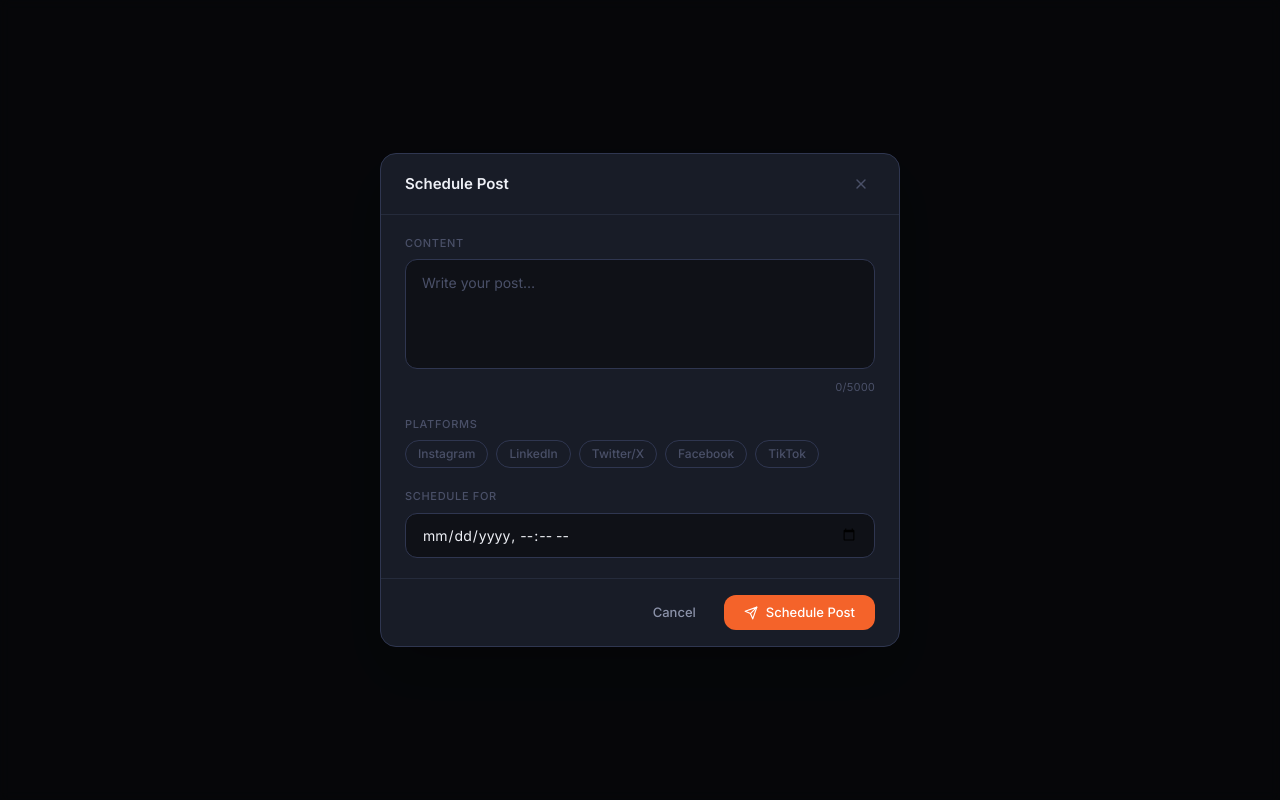
Test case: ComposeModal › shows API error message when submit fails
Type "Test post" into the text box labelled "Content" at (640, 314), box [405,259,875,369]
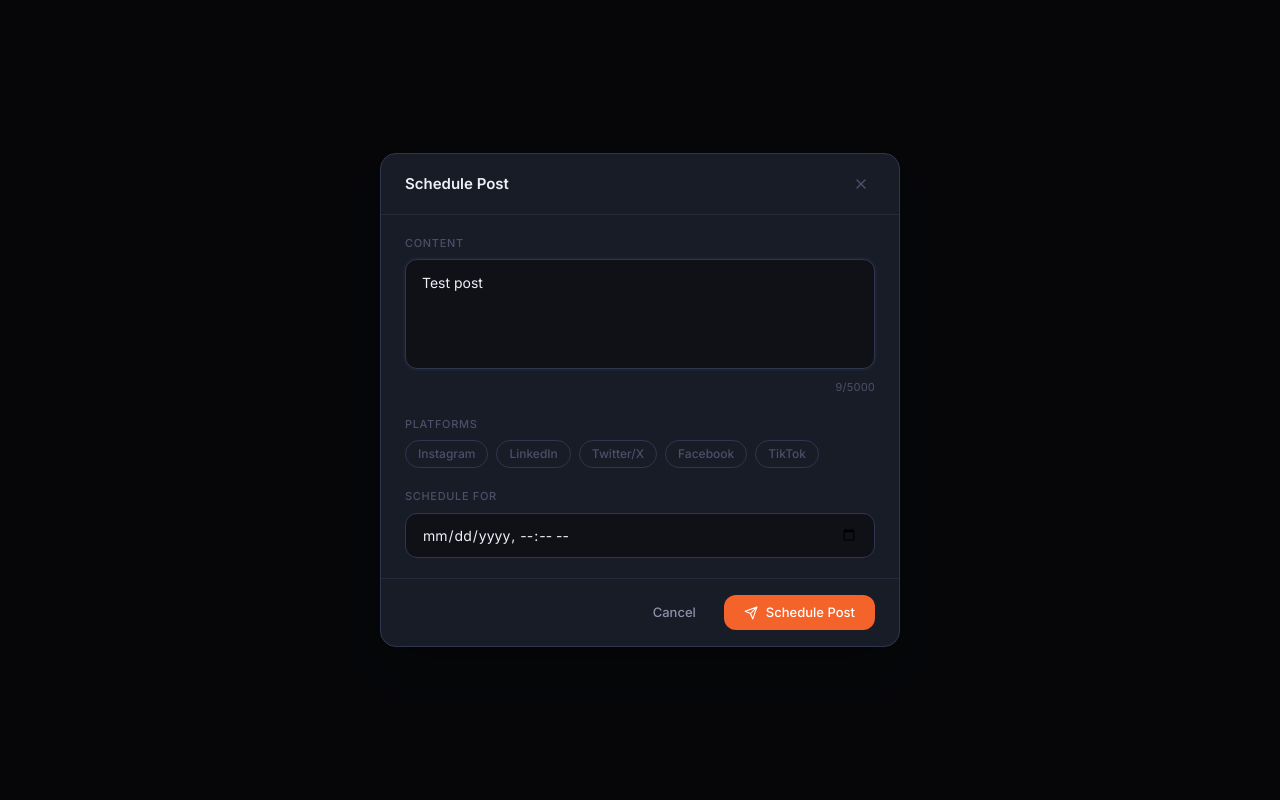
Click the checkbox labelled "Instagram" at (447, 454), box [405,440,488,468]
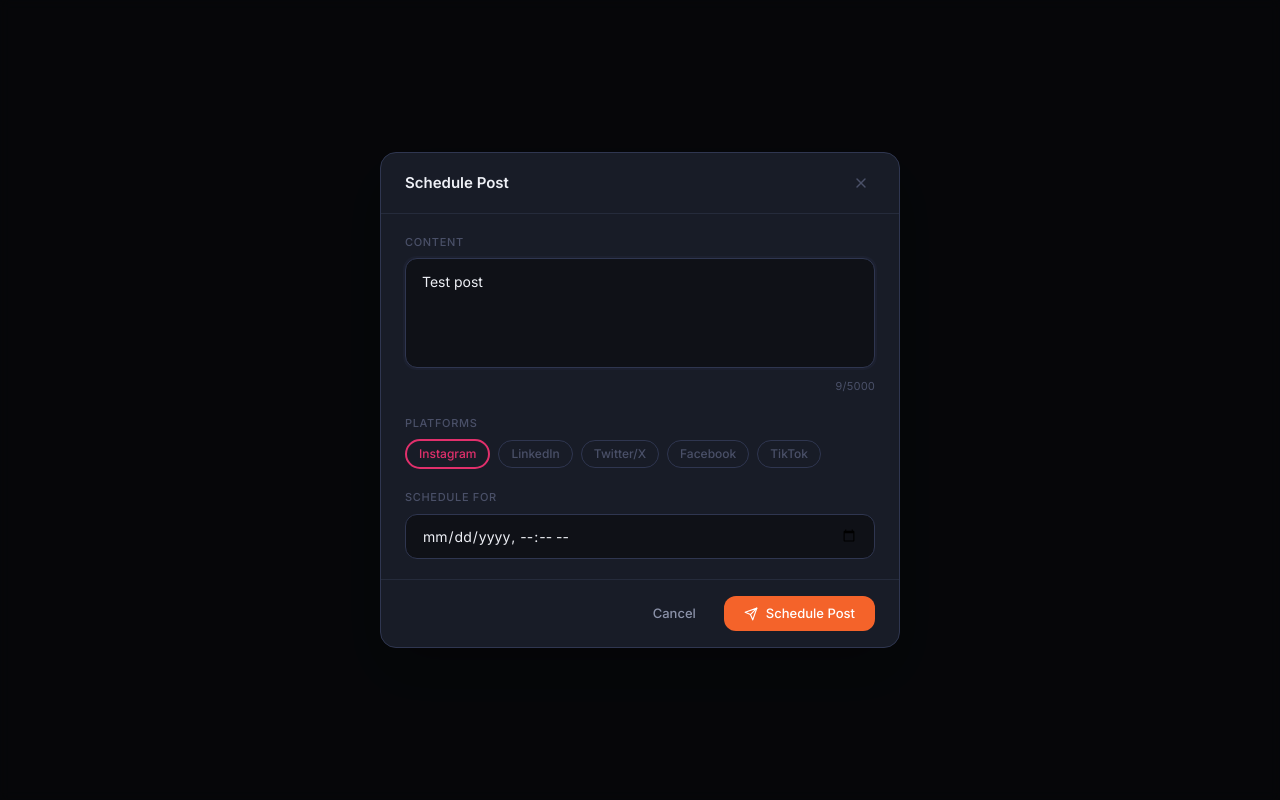
Type "2026-06-01T10:00" into the field labelled "Schedule for" at (640, 536), box [405,514,875,559]
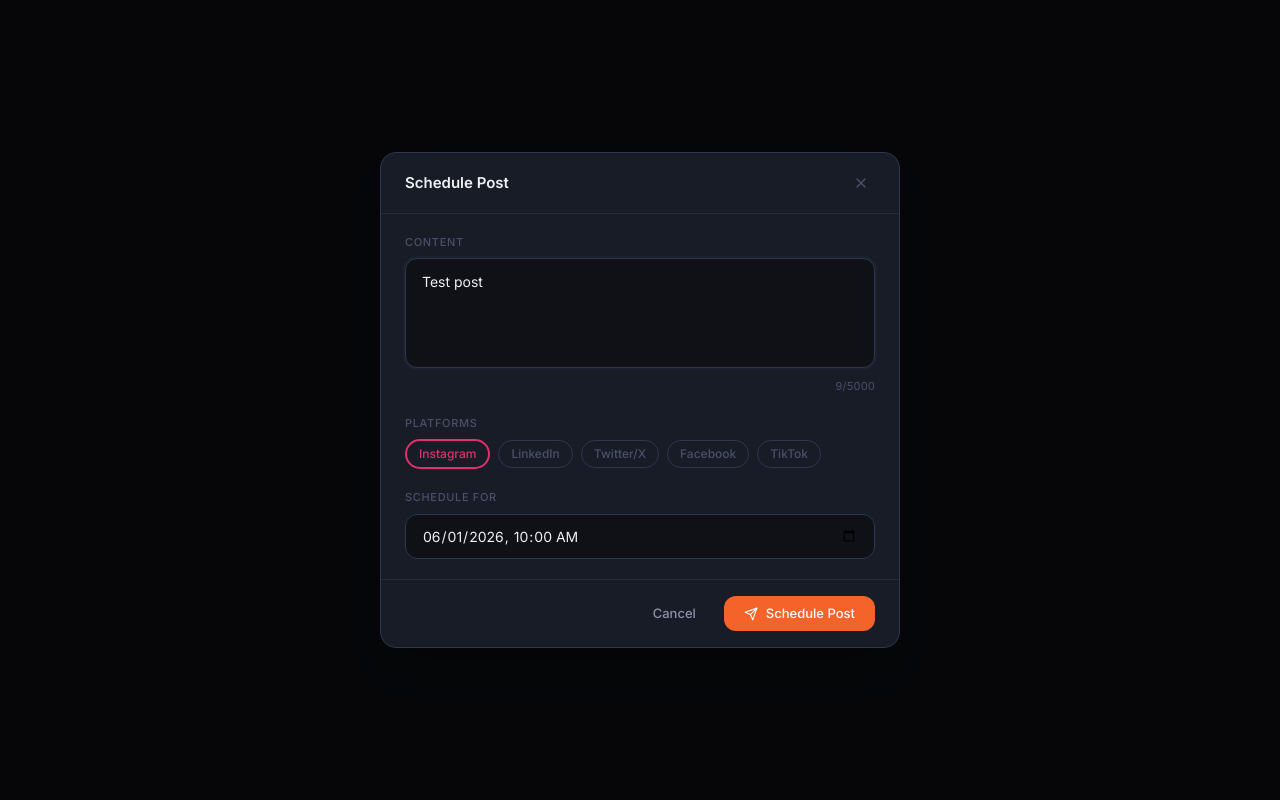
Click the button "Schedule Post" at (799, 614), box [724,596,875,631]
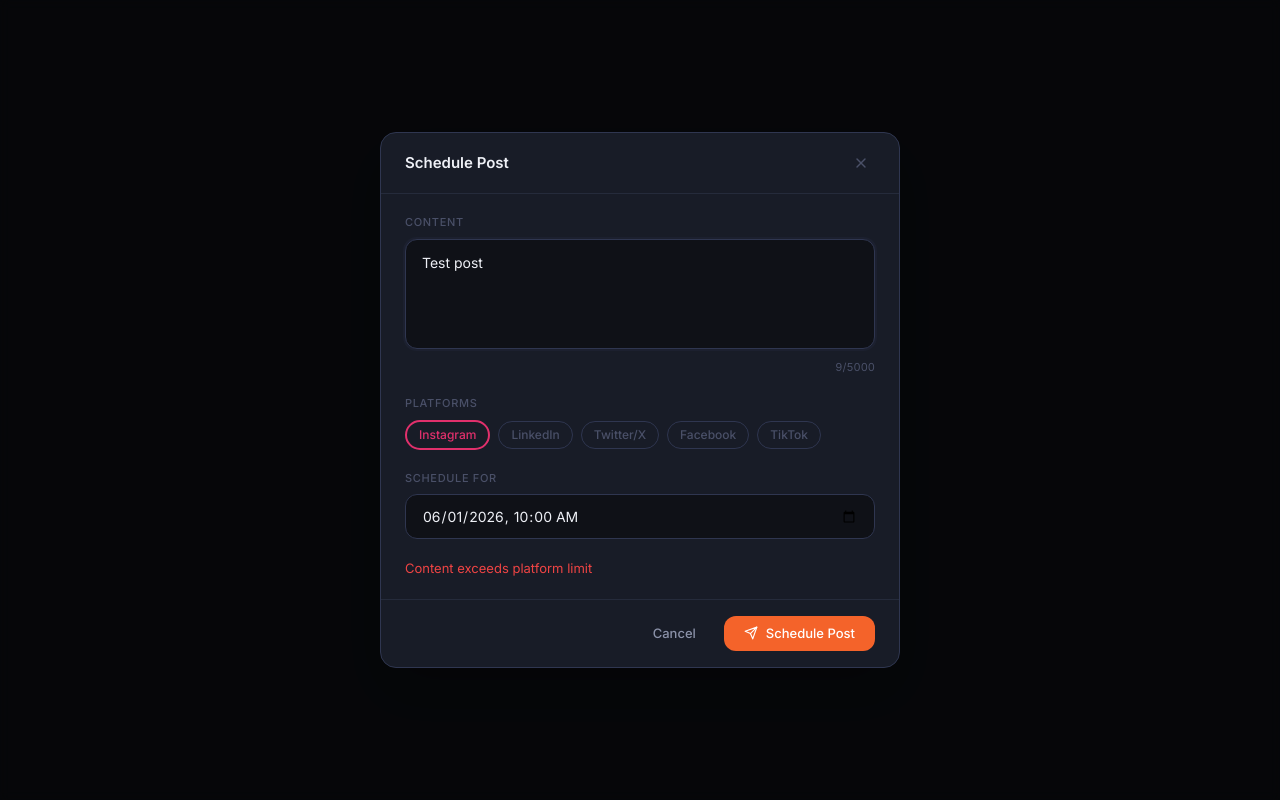
expect the text "Content exceeds platform limit" is shown: met, box [405,560,592,576]
